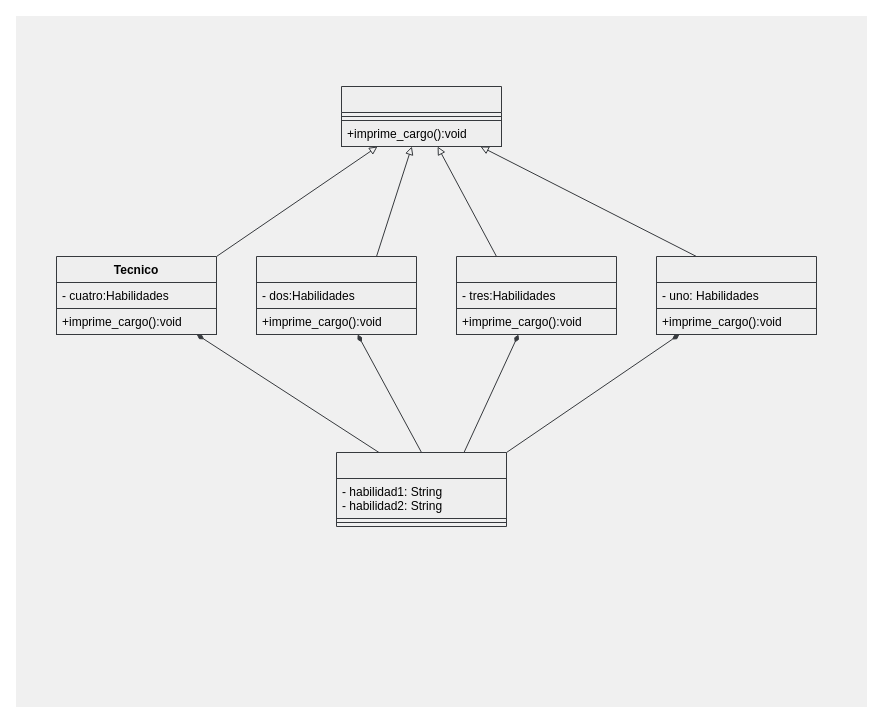
This 883x723 diagram has some shape labels left out. The shapes that lost their labels are listed below. From the top down, each one's box as (x1, y1, x2, y2) in pixels, then its label:
(340, 86, 502, 146): Empleado
(256, 256, 416, 334): Operario
(456, 256, 616, 334): Oficial
(656, 256, 816, 334): Directivo
(336, 452, 506, 526): Habilidades
